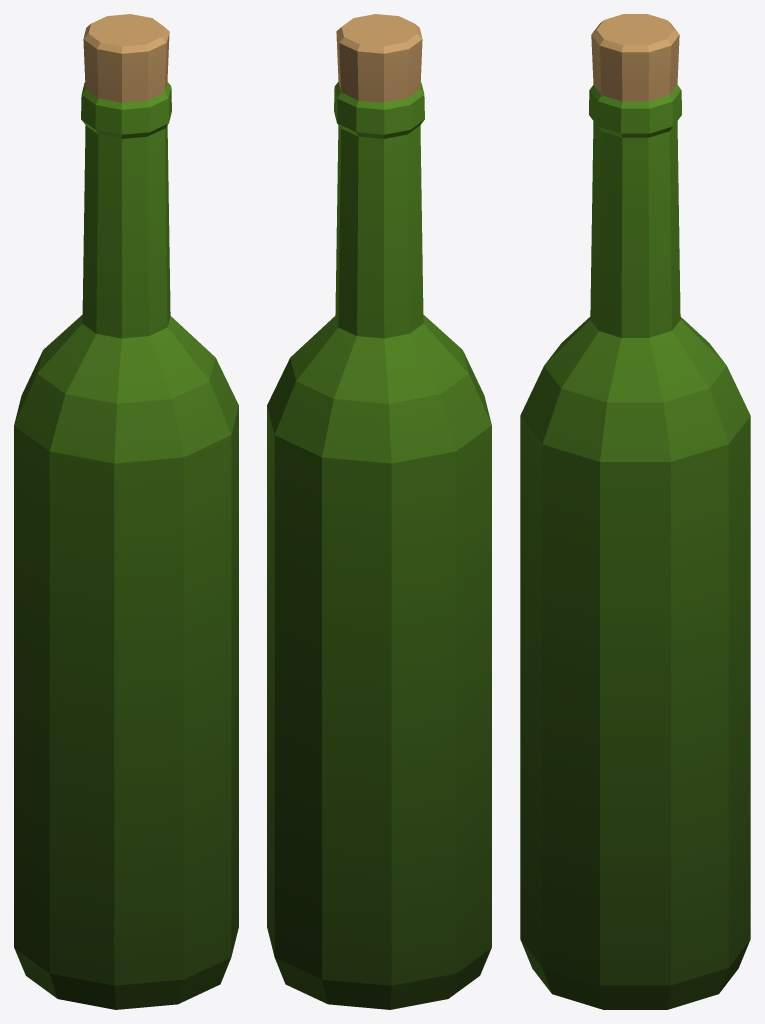
Rendered from bottle.glb.
3 renders of one model, left to right at view 1: azimuth 30°, elevation 25°; view 2: azimuth 150°, elevation 25°; view 3: azimuth 270°, elevation 25°, orthographic.
Parts seen in each view (by area): view 1: bottle; view 2: bottle; view 3: bottle.
Part boxes in pixels (x1,y1,x2,y2): bottle: (14, 14, 238, 1009); bottle: (267, 14, 491, 1009); bottle: (520, 14, 750, 1009).
Size of the model in its own units: 0.0771 by 0.3644 by 0.081.
1 material, 1 textured.
